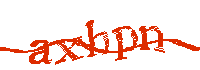a: (29, 38, 51, 66)
h: (84, 21, 110, 58)
n: (138, 23, 167, 55)
p: (111, 25, 138, 63)
x: (53, 35, 85, 65)
